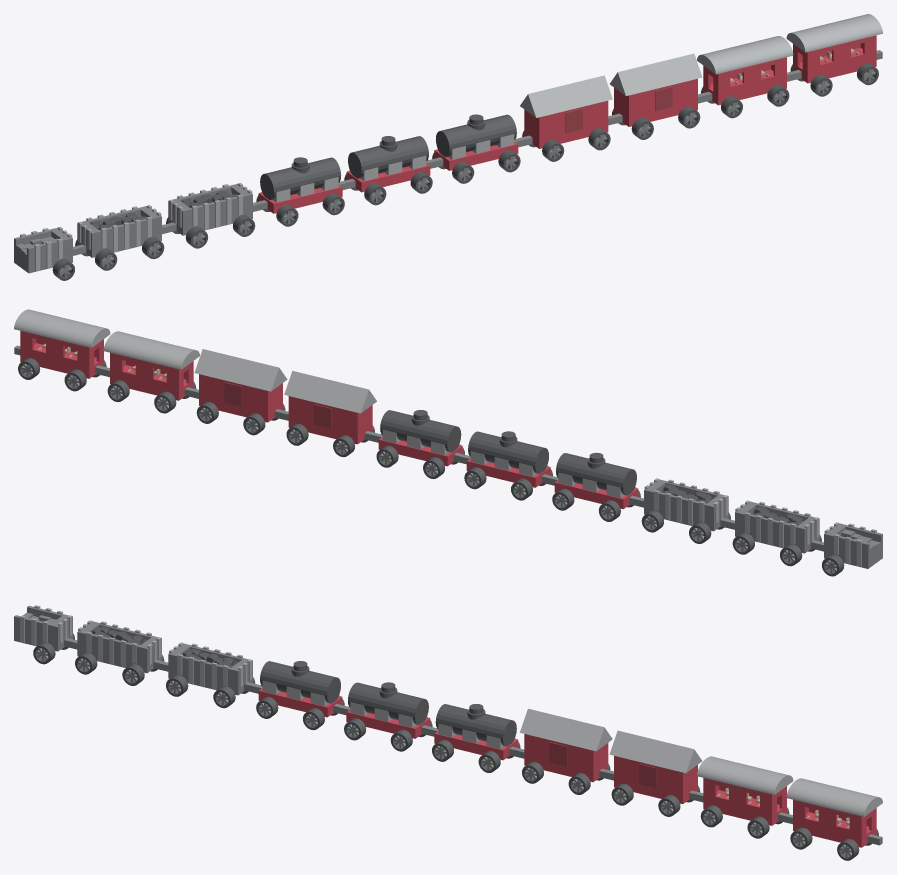
Rendered from Full Steam Train.glb.
3 views of the same model, one above another, from view 1: azimuth 30°, elevation 25°; view 2: azimuth 150°, elevation 25°; view 3: azimuth 330°, elevation 25° (orthographic).
Visible parts, largest first — view 1: Mesh_Mesh_head_geo.001_lambert2SG.001; view 2: Mesh_Mesh_head_geo.001_lambert2SG.001; view 3: Mesh_Mesh_head_geo.001_lambert2SG.001.
Boxes of the visible parts, x1,y1,x2,y2 form: Mesh_Mesh_head_geo.001_lambert2SG.001: [14, 14, 882, 280]; Mesh_Mesh_head_geo.001_lambert2SG.001: [14, 309, 882, 576]; Mesh_Mesh_head_geo.001_lambert2SG.001: [14, 605, 882, 860].
Size of the model in its own units: 998 by 69.26 by 50.35.
